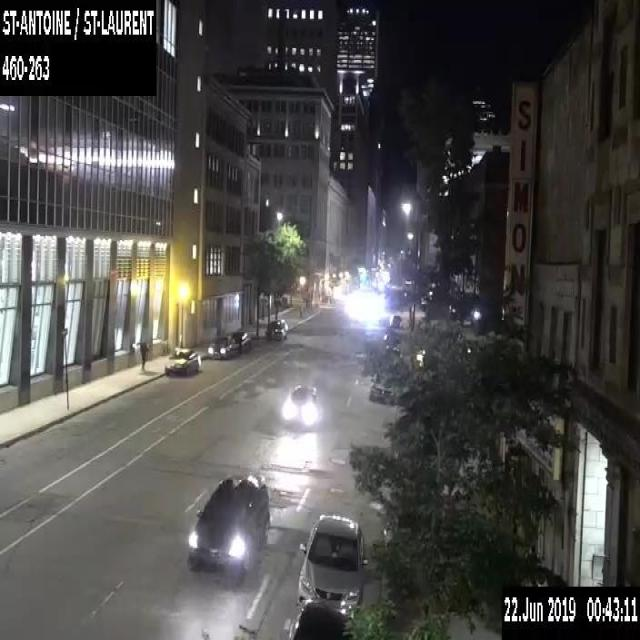pedestrian: (139, 337, 149, 372)
vehicle: (187, 474, 269, 574), (297, 513, 368, 610), (284, 598, 359, 638), (284, 382, 317, 423), (164, 347, 201, 376), (369, 374, 396, 402), (206, 334, 238, 357), (266, 317, 287, 340), (230, 330, 251, 350), (384, 338, 400, 353), (388, 313, 402, 327)
